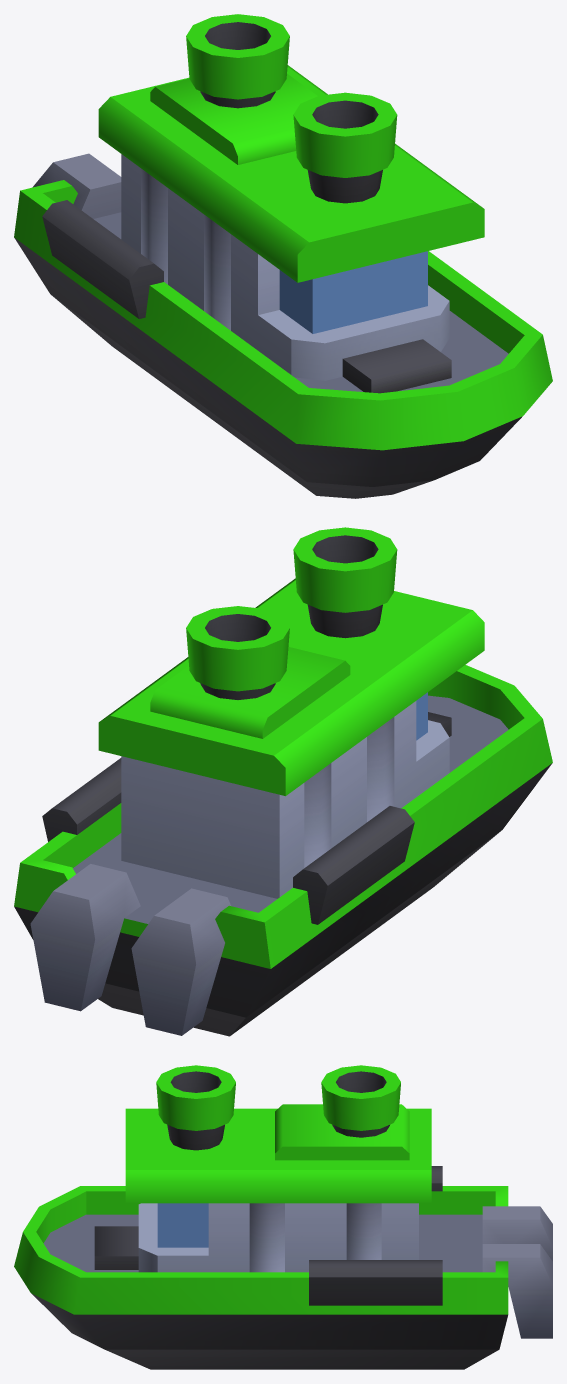
The model's file is boat-tow-a.glb.
3 views of the same model, one above another, from view 1: azimuth 30°, elevation 25°; view 2: azimuth 150°, elevation 25°; view 3: azimuth 270°, elevation 25° (orthographic). The views are drawn at different scales.
Visible parts, largest first — view 1: body.001, boat-tow-a; view 2: boat-tow-a, body.001; view 3: boat-tow-a, body.001.
Part boxes in pixels (box(x1,y1,x2,y2)): body.001: box(14, 14, 552, 450); boat-tow-a: box(14, 22, 522, 498); boat-tow-a: box(14, 535, 552, 1036); body.001: box(14, 527, 552, 968); boat-tow-a: box(31, 1071, 552, 1369); body.001: box(14, 1065, 508, 1314).
Size of the model in its own units: 2.88 by 3.33 by 6.12.
Materials: 2 (1 with a texture image).
